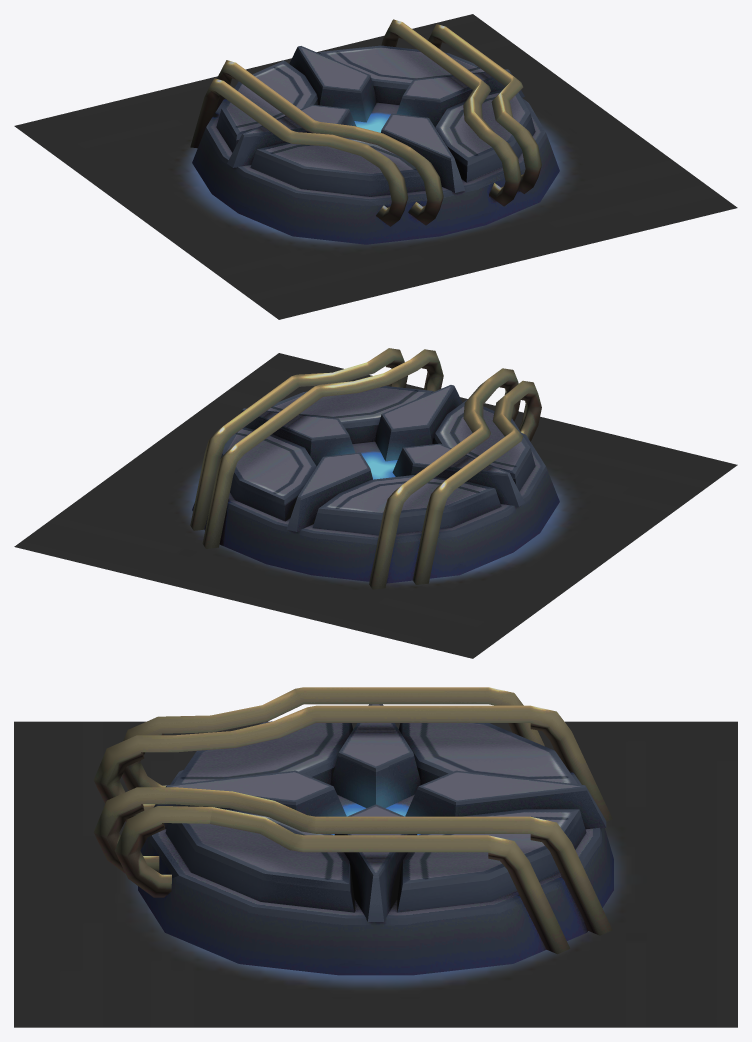
Rendered from S_SDTrap.fbx.
The picture shows the model from 3 angles, top to bottom: view 1: azimuth 30°, elevation 25°; view 2: azimuth 150°, elevation 25°; view 3: azimuth 270°, elevation 25°; orthographic projection. The views are drawn at different scales.
Parts seen in each view (by area): view 1: S_SDTrap; view 2: S_SDTrap; view 3: S_SDTrap.
Boxes of the visible parts, left/top/right/bottom form: S_SDTrap: left=14, top=14, right=737, bottom=319; S_SDTrap: left=14, top=348, right=737, bottom=658; S_SDTrap: left=14, top=687, right=737, bottom=1027.
Size of the model in its own units: 1 by 0.1781 by 1.
2 materials, 2 textured.
